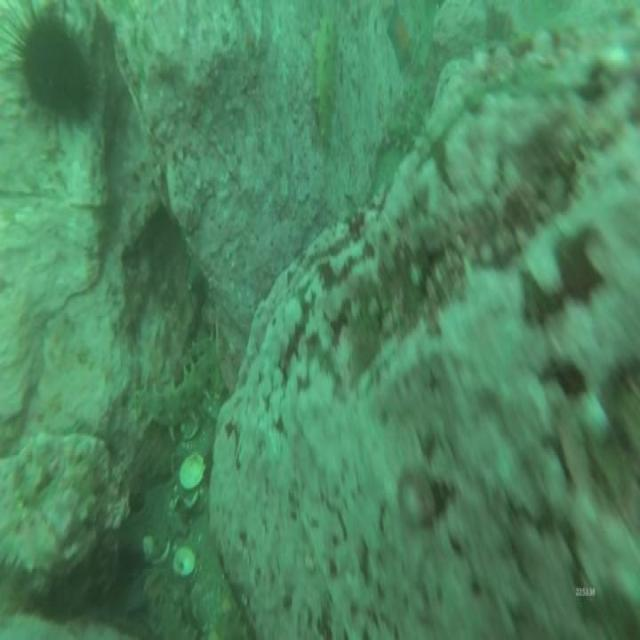echinus: (20, 33, 90, 122)
holothurian: (129, 338, 223, 430), (313, 19, 339, 137)
scallop: (180, 457, 206, 490), (174, 545, 197, 577)
starfish: (390, 13, 410, 66)
